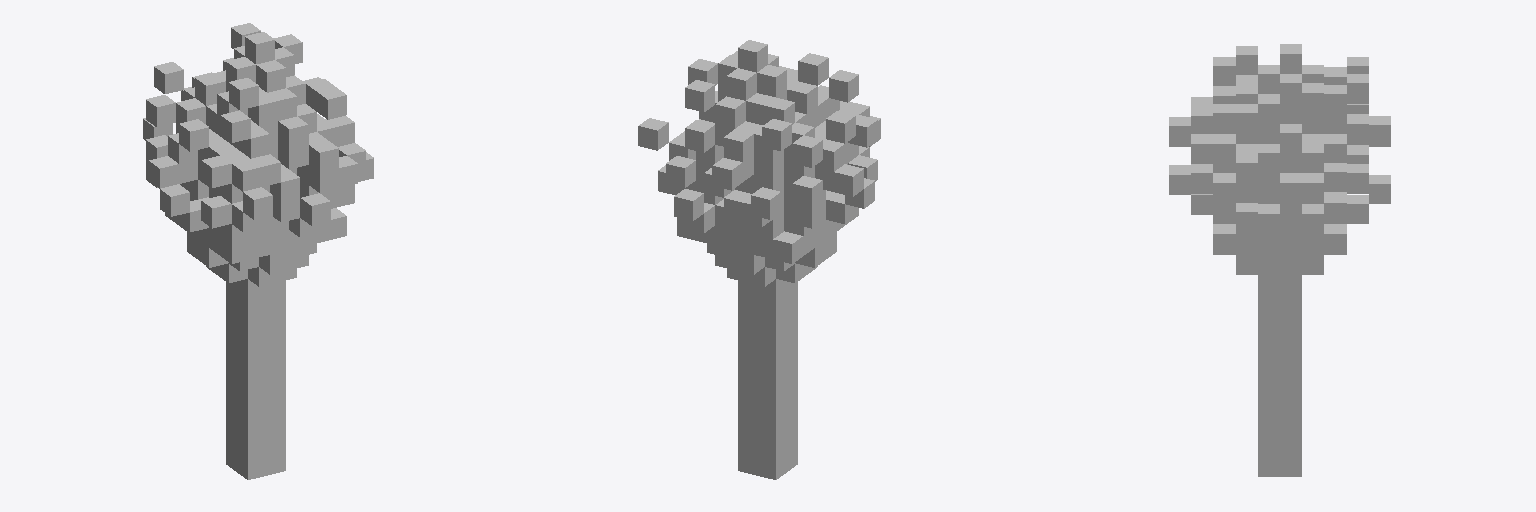
Rendered from torch 2.obj.
The picture shows the model from 3 angles: view 1: azimuth 30°, elevation 25°; view 2: azimuth 150°, elevation 25°; view 3: azimuth 270°, elevation 25°; orthographic projection.
Visible parts, largest first — view 1: object 1; view 2: object 1; view 3: object 1.
Boxes of the visible parts, x1=… form: object 1: x1=143, y1=23, x2=373, y2=479; object 1: x1=638, y1=40, x2=880, y2=479; object 1: x1=1169, y1=44, x2=1390, y2=476.
Bounding box in the file's own units: 1 × 2.1 × 1.